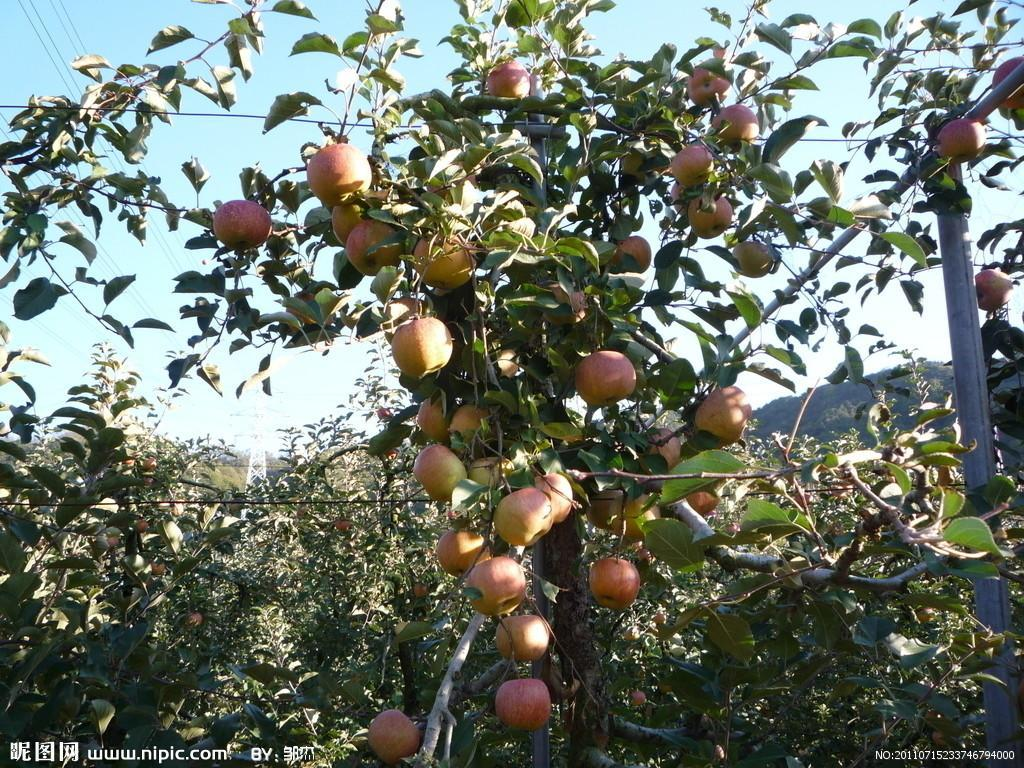apple: (463, 552, 527, 616), (305, 140, 370, 203), (389, 315, 452, 378), (492, 485, 556, 547), (345, 216, 409, 276), (573, 348, 636, 406), (414, 232, 474, 291), (693, 384, 750, 445), (367, 708, 422, 764), (413, 444, 465, 503), (494, 612, 552, 664), (588, 554, 641, 610), (495, 679, 552, 731), (212, 197, 270, 247), (936, 118, 987, 160), (669, 142, 715, 188), (687, 192, 733, 237), (712, 102, 758, 145), (483, 58, 530, 99), (687, 66, 730, 108), (731, 240, 777, 277), (330, 199, 362, 242)
